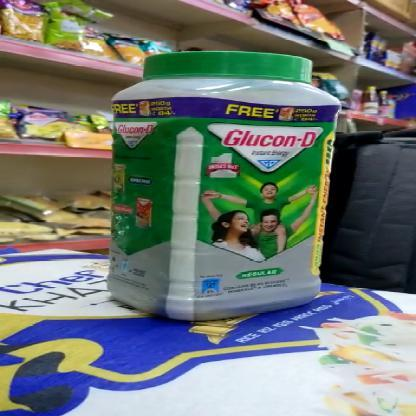Glucon D Regular 2-KG: (113, 48, 334, 317)
